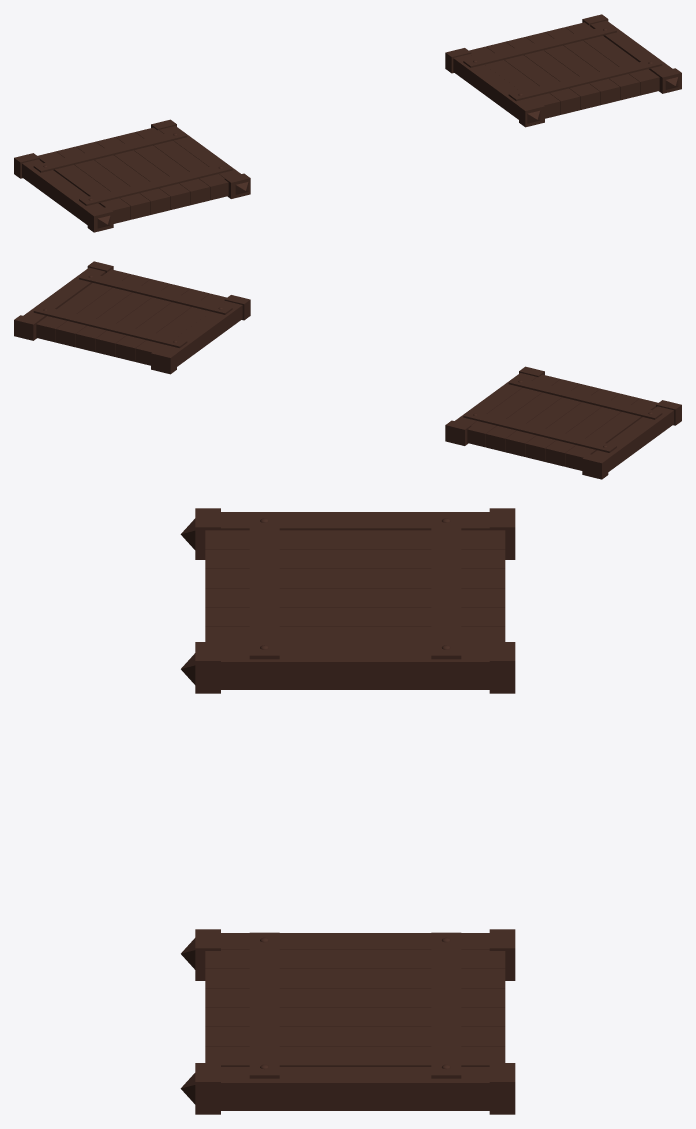
The model's file is Platforms.fbx.
The picture shows the model from 3 angles, top to bottom: view 1: azimuth 30°, elevation 25°; view 2: azimuth 150°, elevation 25°; view 3: azimuth 270°, elevation 25°; orthographic projection. The views are drawn at different scales.
Parts seen in each view (by area): view 1: Platform; view 2: Platform; view 3: Platform.
Part boxes in pixels (<box>): Platform: <box>14,14,681,232</box>; Platform: <box>14,261,681,479</box>; Platform: <box>180,508,515,1114</box>.
Bounding box in the file's own units: 519 × 15.06 × 128.
